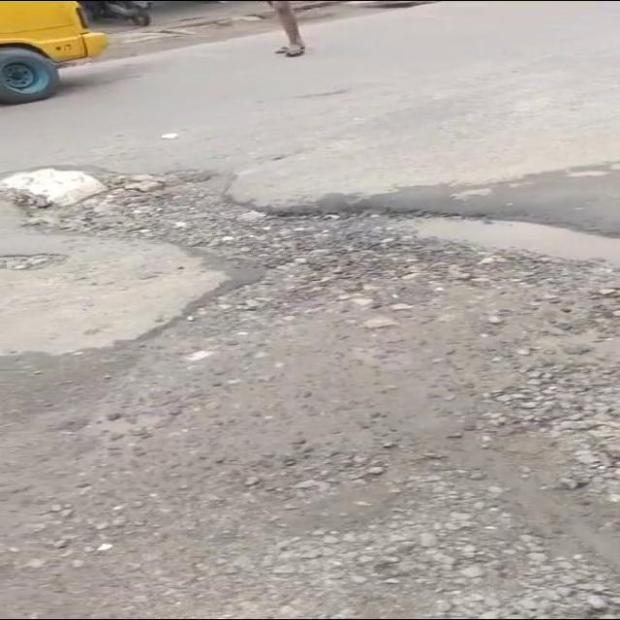lubang: (0, 167, 619, 578), (0, 252, 66, 271)
